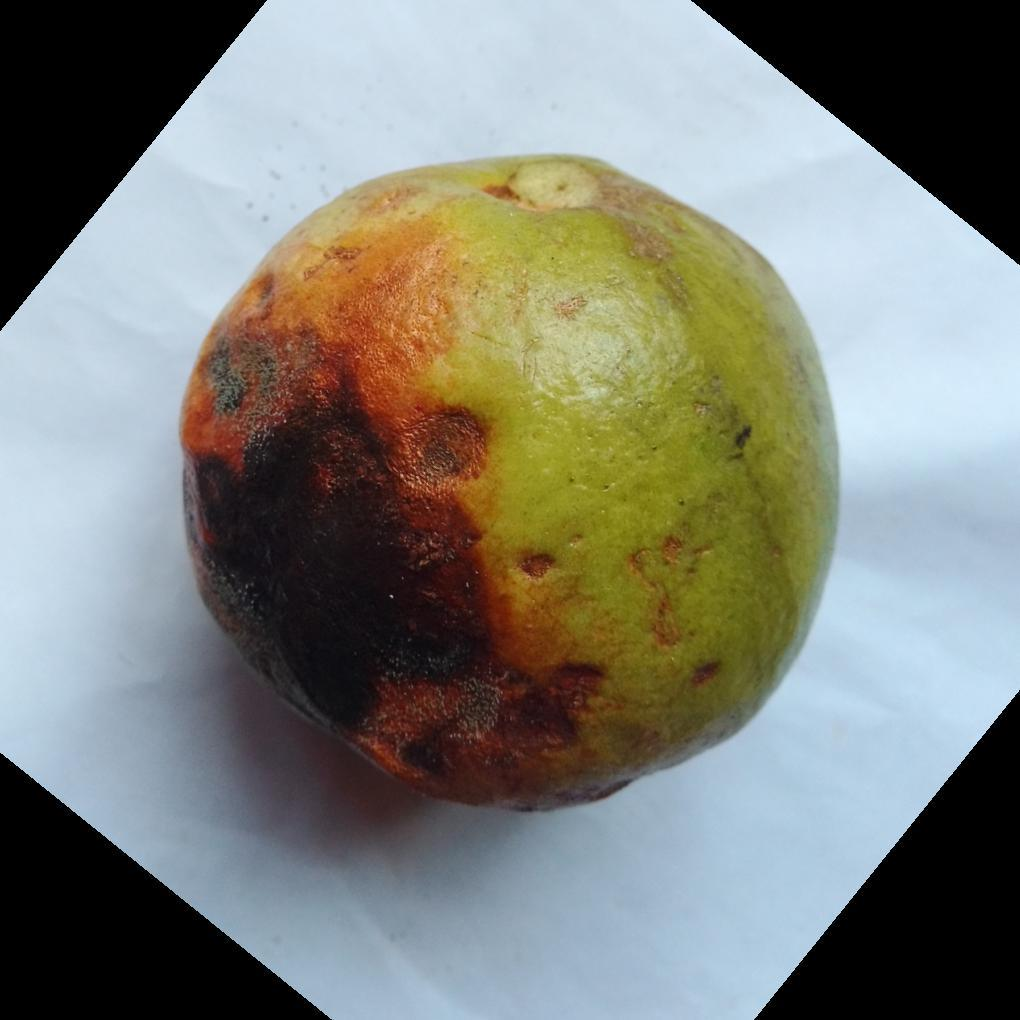FreshOrange: (175, 153, 842, 817)
